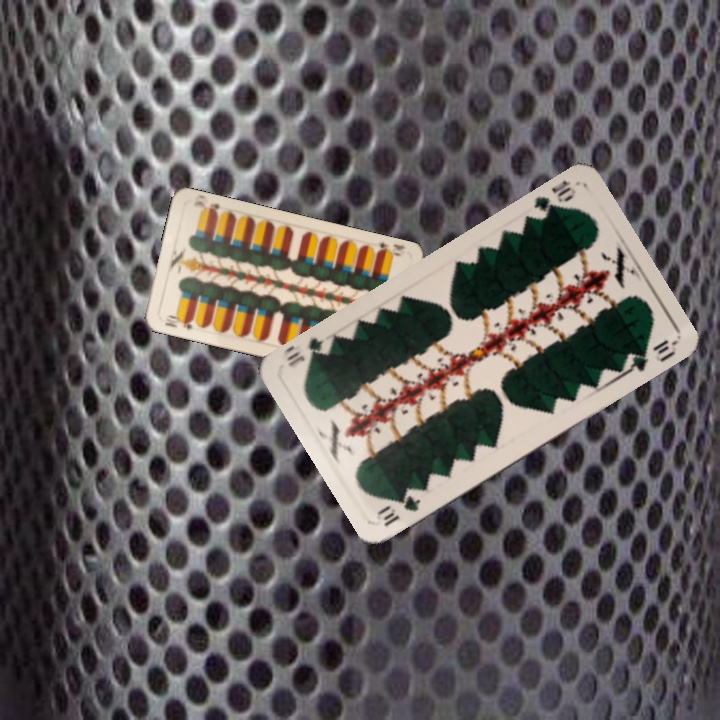E10: (370, 238, 407, 260), (161, 311, 196, 332)
G10: (528, 176, 579, 223), (374, 491, 424, 530)
